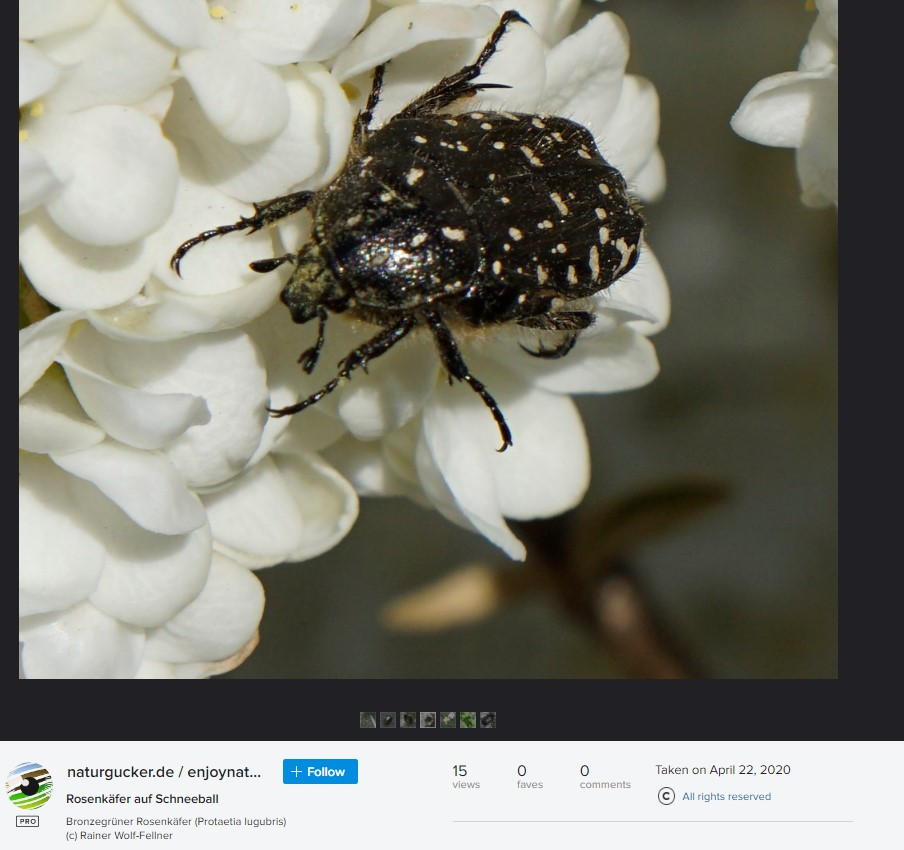Protaetia_lugubris: (167, 8, 649, 459)
